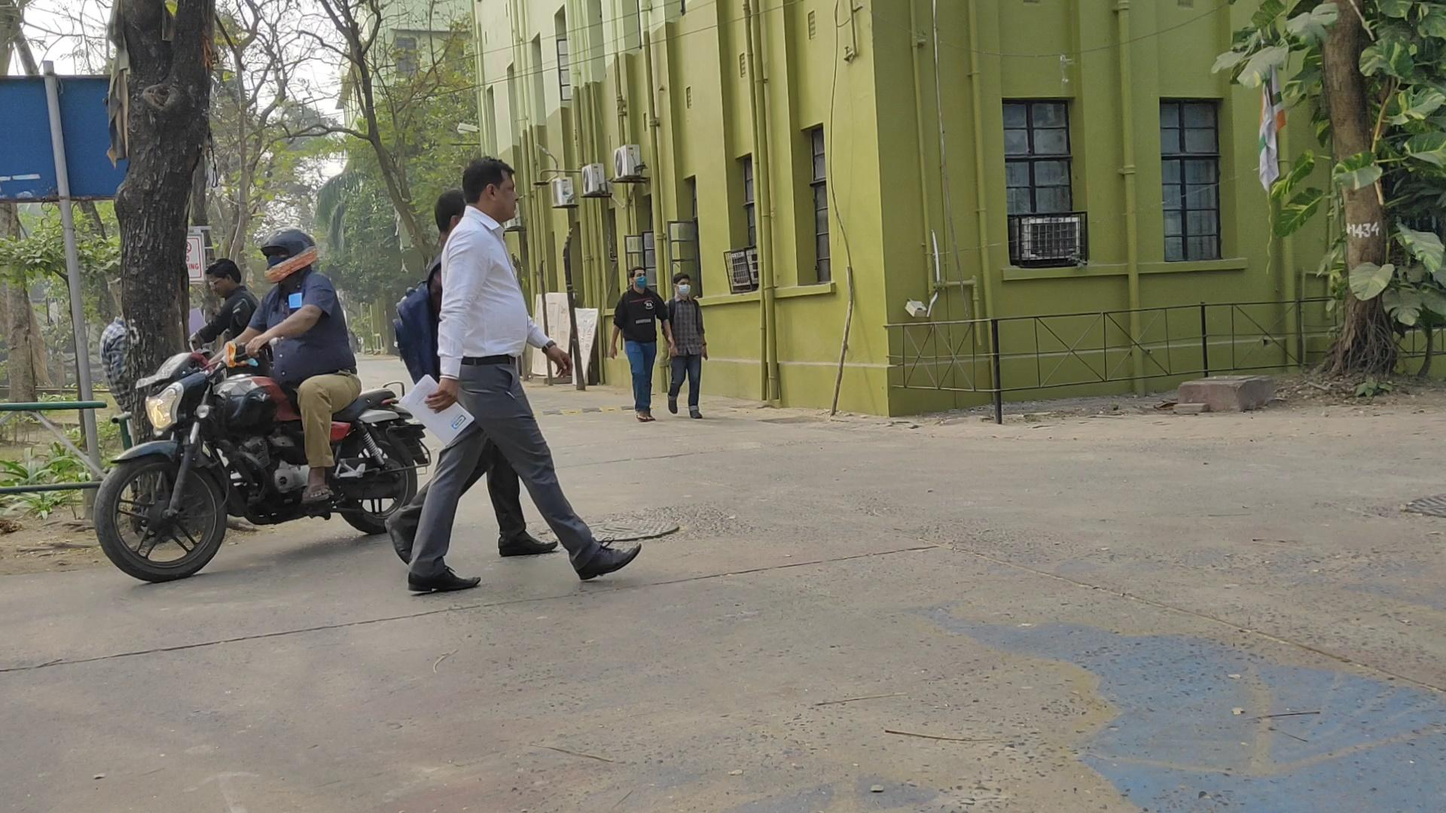bike: (94, 228, 432, 583)
